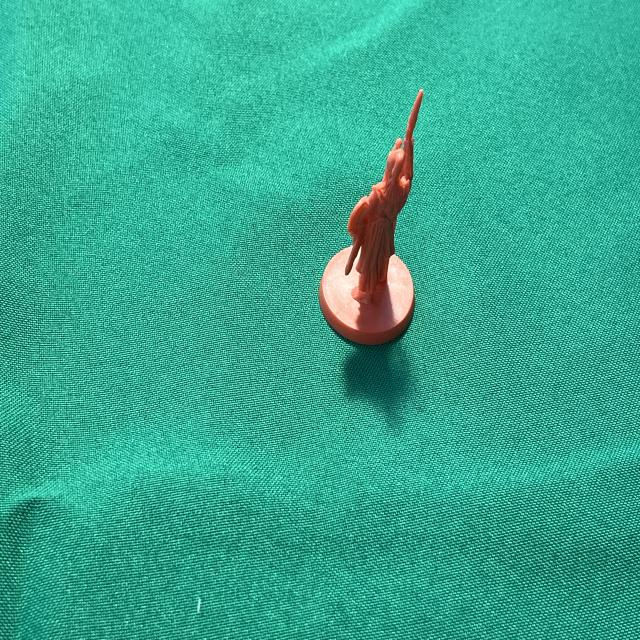amon_follower: (319, 90, 422, 345)
